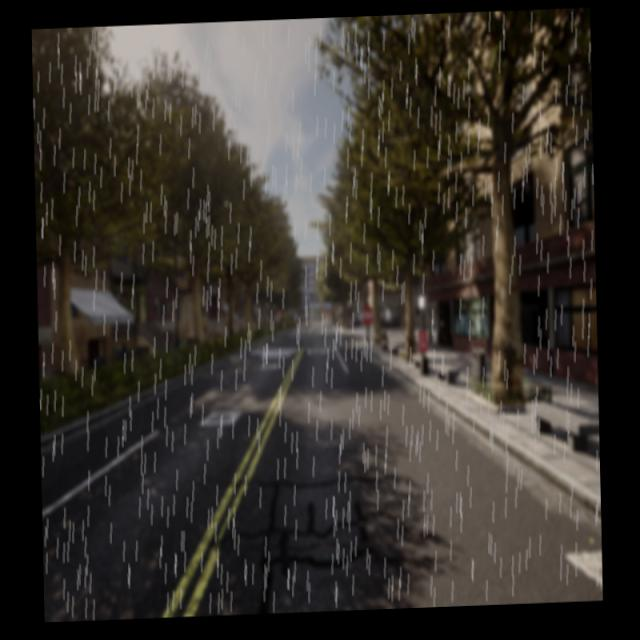stop sign: (359, 301, 375, 327)
